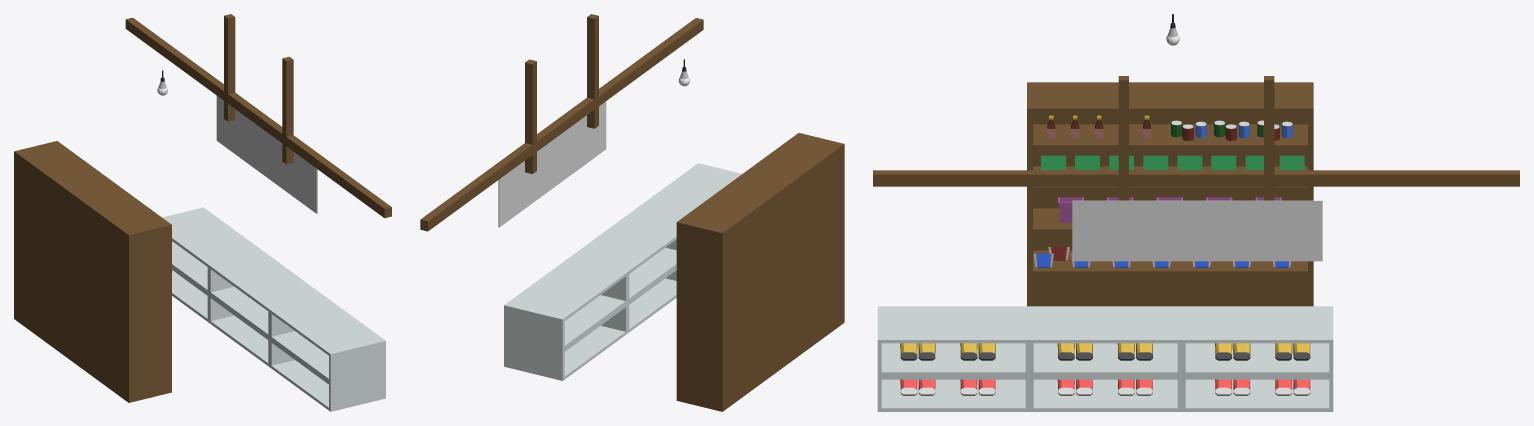
Rendered from randomstall.fbx.
3 renders of one model, left to right at view 1: azimuth 30°, elevation 25°; view 2: azimuth 150°, elevation 25°; view 3: azimuth 270°, elevation 25°, orthographic. The views are drawn at different scales.
Visible parts, largest first — view 1: Shelf, table, randomstall, stallname; view 2: Shelf, table, randomstall, stallname; view 3: table, Shelf, stallname, randomstall, slippers.001, slippers.003, book, cans, paperbag, bucket, bottle.
Boxes of the visible parts, x1,y1,x2,y2 form: Shelf: [14, 141, 171, 402]; table: [162, 207, 385, 411]; randomstall: [125, 14, 391, 218]; stallname: [216, 96, 317, 213]; Shelf: [676, 133, 844, 411]; table: [504, 163, 741, 380]; randomstall: [420, 14, 703, 231]; stallname: [498, 101, 606, 227]; table: [877, 306, 1333, 411]; Shelf: [1027, 82, 1313, 306]; stallname: [1072, 200, 1322, 261]; randomstall: [873, 76, 1519, 200]; slippers.001: [900, 343, 1310, 360]; slippers.003: [900, 379, 1310, 395]; book: [1041, 155, 1304, 170]; cans: [1171, 120, 1292, 140]; paperbag: [1033, 247, 1291, 267]; bucket: [1058, 197, 1281, 222]; bottle: [1047, 115, 1150, 138].
Size of the model in its own units: 4.8 by 5.93 by 10.41.
